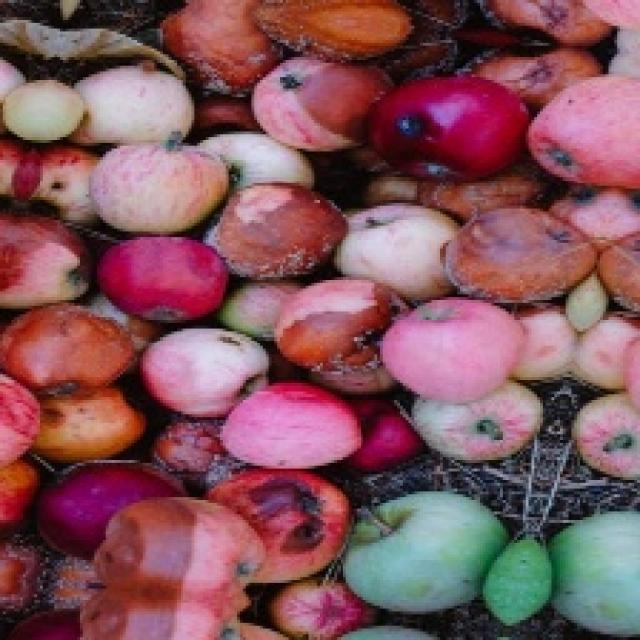rotten_apple: (375, 79, 525, 175), (97, 500, 260, 584), (451, 206, 590, 298), (279, 275, 390, 385), (219, 190, 343, 276), (257, 473, 351, 582), (1, 310, 131, 387), (254, 59, 367, 146), (261, 0, 407, 55), (162, 0, 257, 83), (38, 391, 142, 457), (491, 45, 594, 96)
